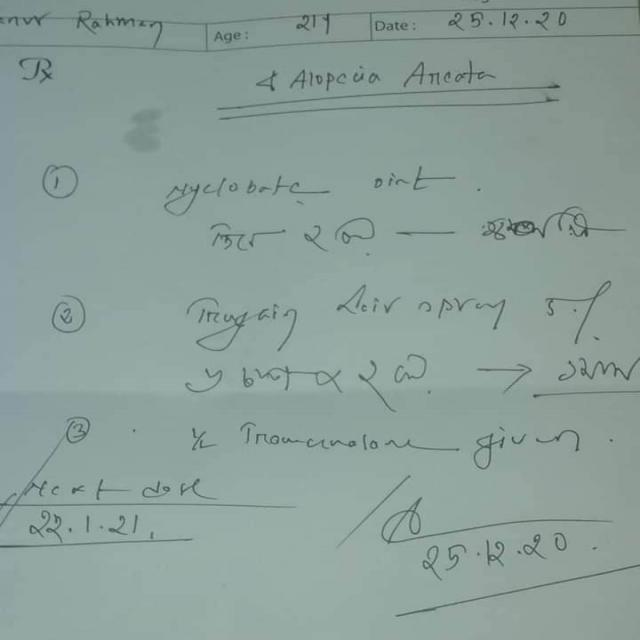Nyclobate: (154, 166, 325, 211)
Trugain: (173, 291, 313, 345)
